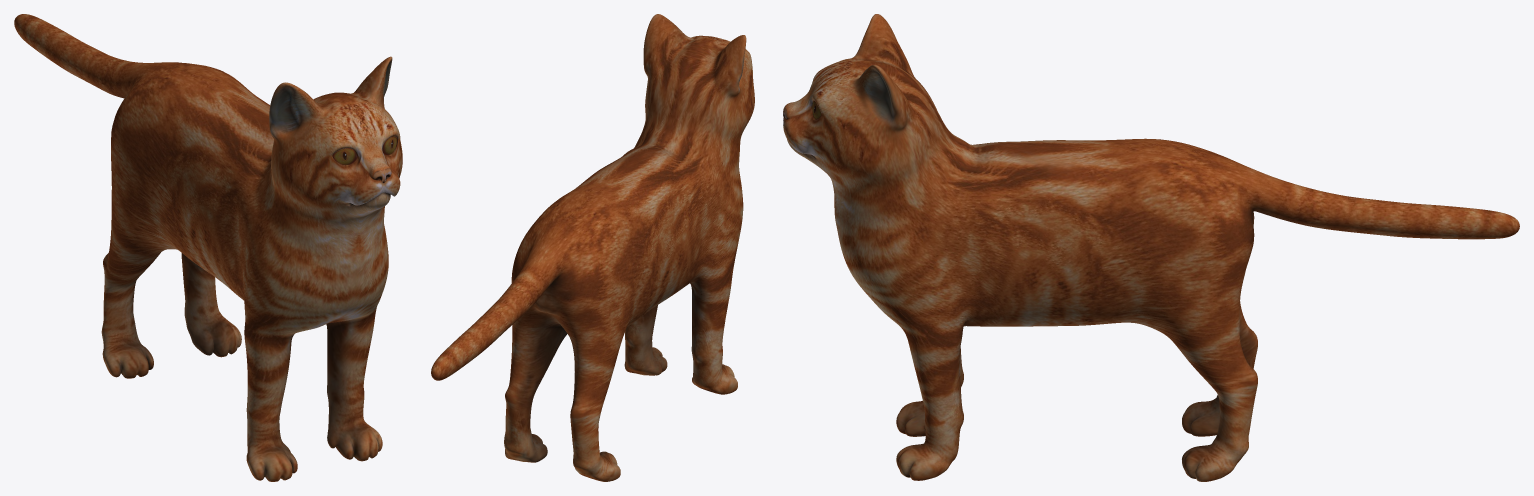
File: cat.gltf
The picture shows the model from 3 angles, left to right: view 1: azimuth 30°, elevation 25°; view 2: azimuth 150°, elevation 25°; view 3: azimuth 270°, elevation 25°; orthographic projection. The views are drawn at different scales.
Visible parts, largest first — view 1: 12221_Cat_v1_l3; view 2: 12221_Cat_v1_l3; view 3: 12221_Cat_v1_l3.
Part boxes in pixels (<box>): 12221_Cat_v1_l3: <box>14,14,402,481</box>; 12221_Cat_v1_l3: <box>431,14,754,481</box>; 12221_Cat_v1_l3: <box>783,14,1519,481</box>.
Size of the model in its own units: 2.89 by 8.66 by 14.01.
1 material, 1 textured.
